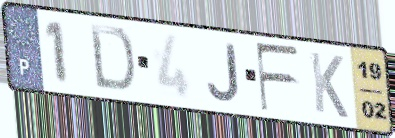1: (43, 20, 71, 86)
4: (154, 32, 194, 102)
D: (87, 21, 137, 95)
F: (253, 41, 301, 114)
J: (205, 41, 242, 104)
K: (307, 49, 350, 121)
